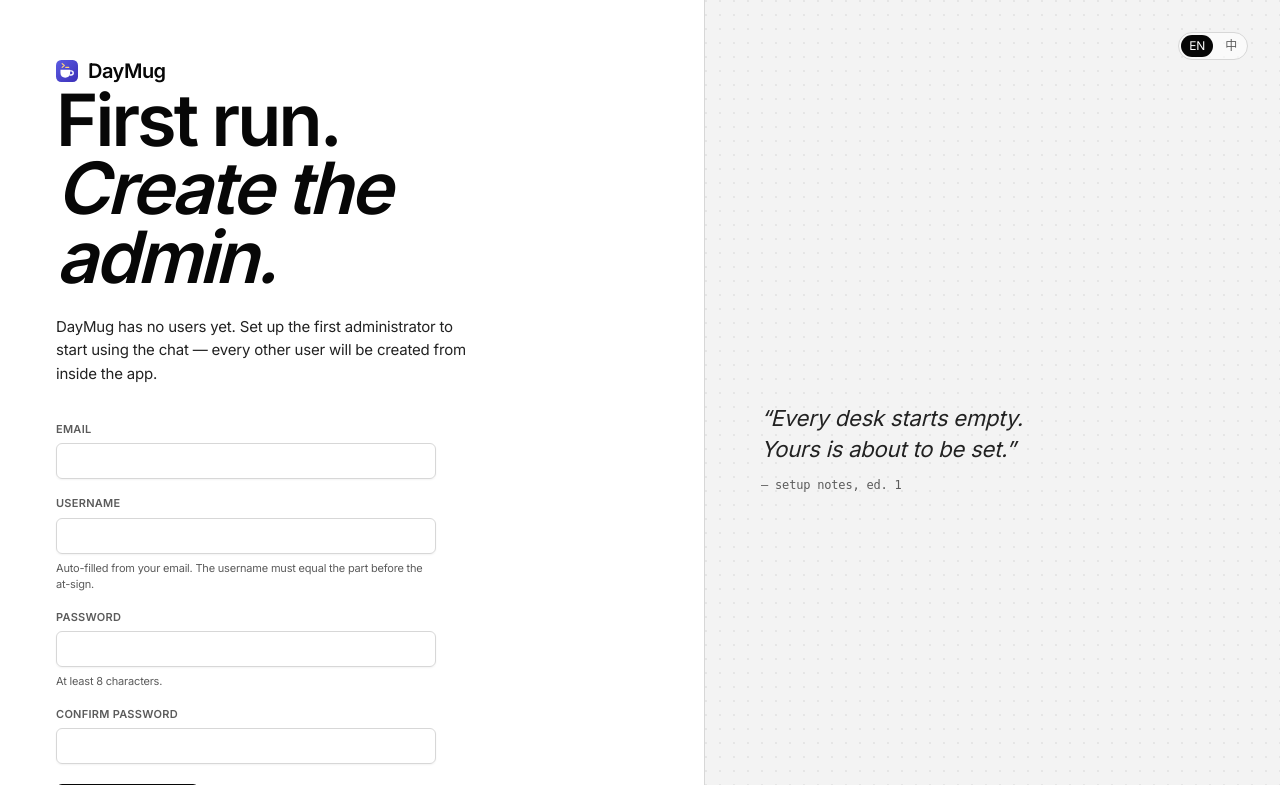
Test case: SetupAdminPage › auto-fills the username from the email local-part
In the field labelled "Email": (246, 461) top-left (56, 443), bottom-right (436, 479), type "alice@example.com"
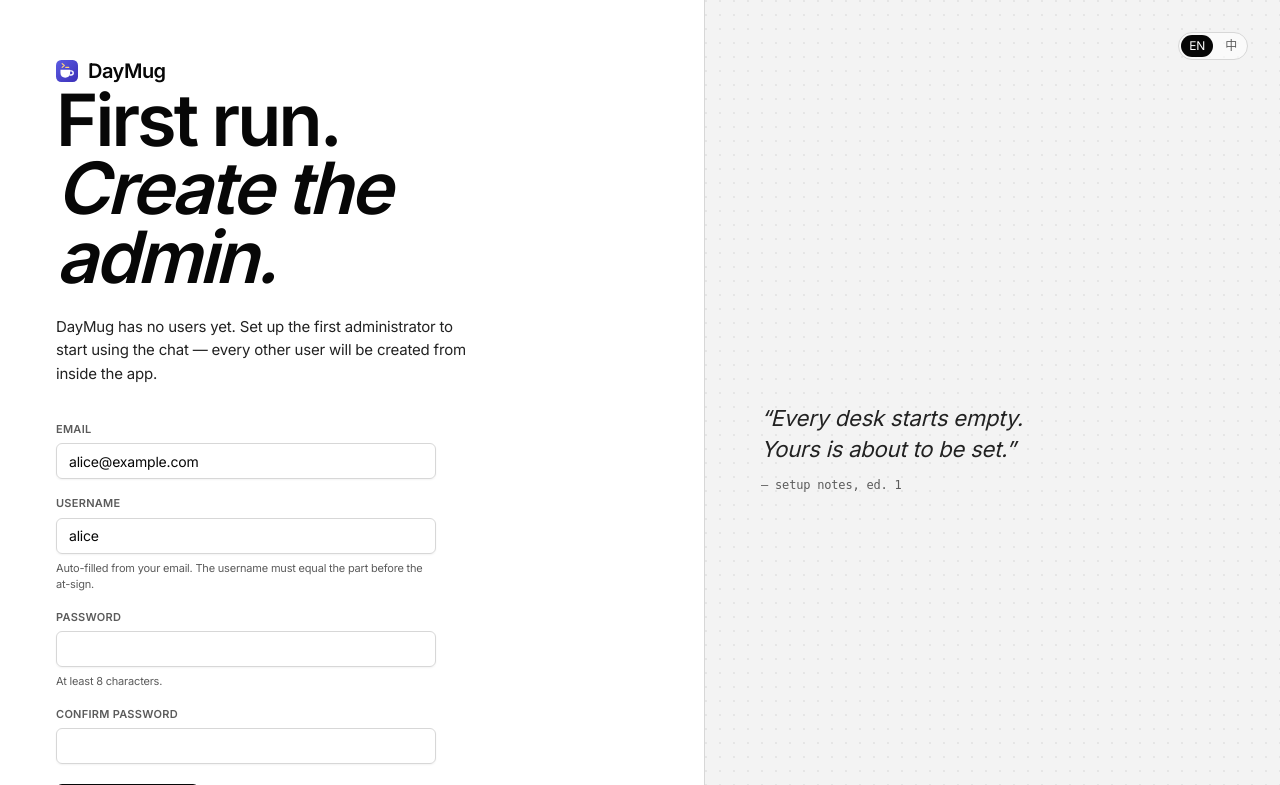
Expected: the field labelled "Username" holds "alice", top-left (56, 518), bottom-right (436, 554)
